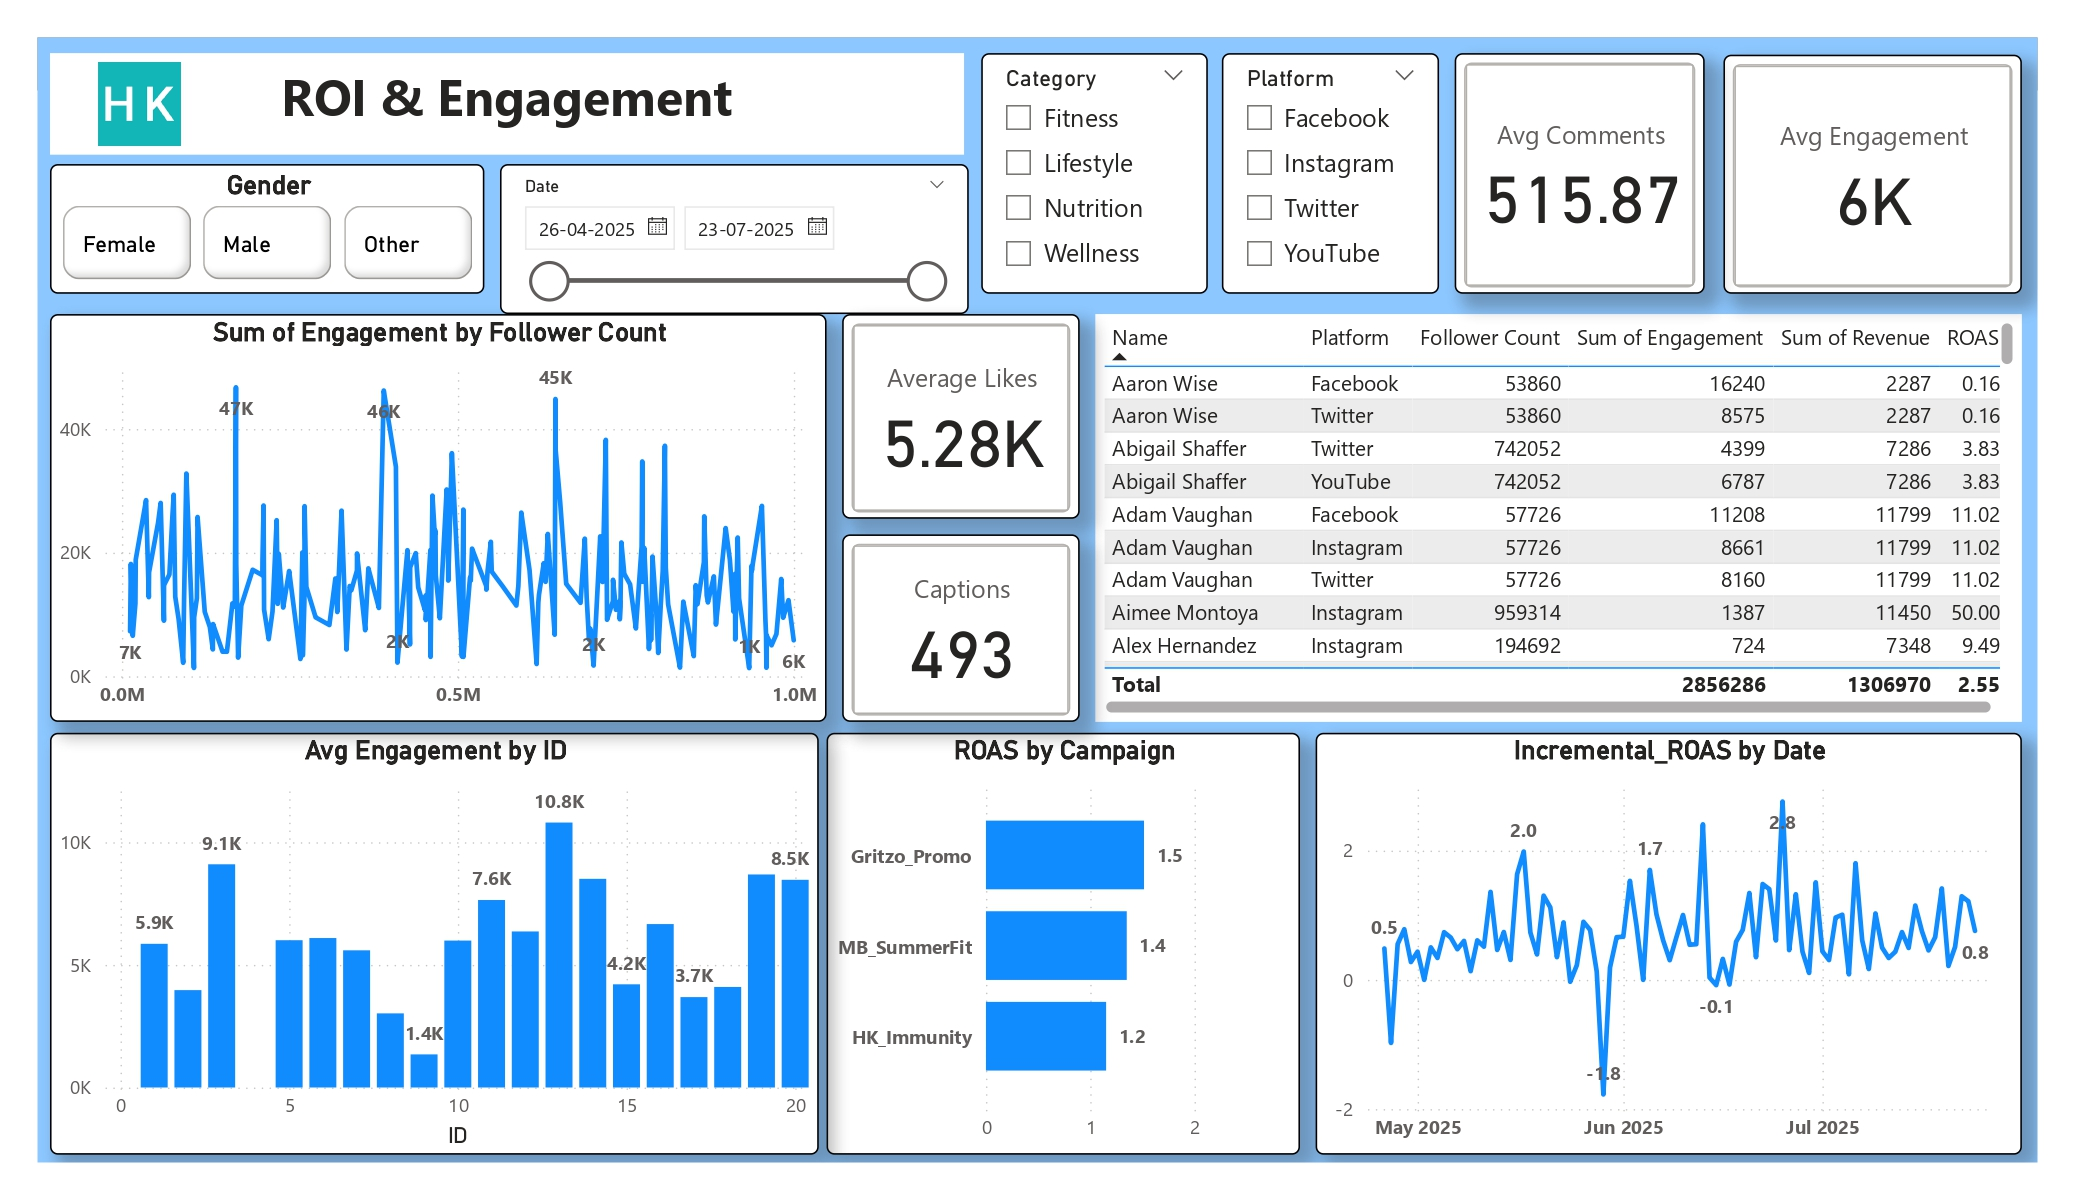

The dashboard page shown, as its layout file describes it:
{"tool":"powerbi","page":{"name":"ROI & Engagement","canvas":[1280,720],"ordinal":3},"visuals":[{"type":"textbox","box":[8.2,9.6,584.9,65.8],"z":0},{"type":"clusteredBarChart","fields":{"Y":["payouts.ROAS"],"Category":["tracking_data.Campaign"]},"box":[505.5,445.2,302.7,269.9],"z":1000},{"type":"lineChart","fields":{"Y":["tracking_data.Incremental_ROAS"],"Category":["tracking_data.Date"]},"box":[817.8,445.2,452.1,269.9],"z":2000},{"type":"clusteredColumnChart","fields":{"Y":["posts.Avg Engagement"],"Category":["influencers.ID"]},"box":[8.2,445.2,491.8,269.9],"z":3000},{"type":"lineChart","fields":{"Category":["influencers.Follower Count"],"Y":["Sum(posts.Engagement)"]},"box":[8.2,176.7,497.3,261.6],"z":4000},{"type":"tableEx","fields":{"Values":["influencers.Name","posts.Platform","influencers.Follower Count","Sum(posts.Engagement)","Sum(tracking_data.Revenue)","payouts.ROAS"]},"box":[676.7,176.7,593.2,261.6],"z":5000},{"type":"advancedSlicerVisual","fields":{"Values":["influencers.Gender"]},"box":[8.2,80.8,278.1,83.6],"z":6000},{"type":"slicer","fields":{"Values":["posts.Platform"]},"box":[757.5,9.6,139.7,154.8],"z":7000},{"type":"slicer","fields":{"Values":["influencers.Category"]},"box":[604.1,9.6,145.2,154.8],"z":8000},{"type":"slicer","fields":{"Values":["posts.Date"]},"box":[295.9,80.8,300,95.9],"z":9000},{"type":"image","box":[28.8,11,72.6,63],"z":10000},{"type":"cardVisual","fields":{"Data":["posts.Avg Engagement"]},"box":[1079.5,11,190.4,153.4],"z":11000},{"type":"cardVisual","fields":{"Data":["Avg(posts.Likes)"]},"box":[515.1,176.7,152.1,131.5],"z":12000},{"type":"cardVisual","fields":{"Data":["Avg(posts.Comments)"]},"box":[906.8,9.6,160.3,154.8],"z":13000},{"type":"cardVisual","fields":{"Data":["Count(posts.Caption)"]},"box":[515.1,317.8,152.1,120.5],"z":14000}]}

Visuals, with their boxes on the page's 1280x720 design canvas (x1, y1, x2, y2). These are canvas units, not pixel positions in the 2075x1200 screenshot, which may show the page scaled, cropped or inside an application window:
textbox: BBox(8, 10, 593, 75)
clusteredBarChart - payouts.ROAS x tracking_data.Campaign: BBox(506, 445, 808, 715)
lineChart - tracking_data.Incremental_ROAS x tracking_data.Date: BBox(818, 445, 1270, 715)
clusteredColumnChart - posts.Avg Engagement x influencers.ID: BBox(8, 445, 500, 715)
lineChart - influencers.Follower Count x Sum(posts.Engagement): BBox(8, 177, 506, 438)
tableEx - influencers.Name x posts.Platform: BBox(677, 177, 1270, 438)
advancedSlicerVisual - influencers.Gender: BBox(8, 81, 286, 164)
slicer - posts.Platform: BBox(758, 10, 897, 164)
slicer - influencers.Category: BBox(604, 10, 749, 164)
slicer - posts.Date: BBox(296, 81, 596, 177)
image: BBox(29, 11, 101, 74)
cardVisual - posts.Avg Engagement: BBox(1080, 11, 1270, 164)
cardVisual - Avg(posts.Likes): BBox(515, 177, 667, 308)
cardVisual - Avg(posts.Comments): BBox(907, 10, 1067, 164)
cardVisual - Count(posts.Caption): BBox(515, 318, 667, 438)
